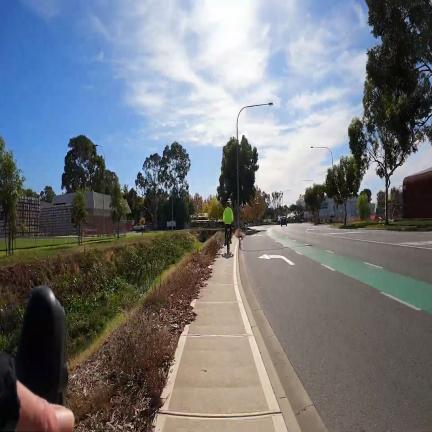Green_Bike_Lane: (269, 234, 432, 314)
